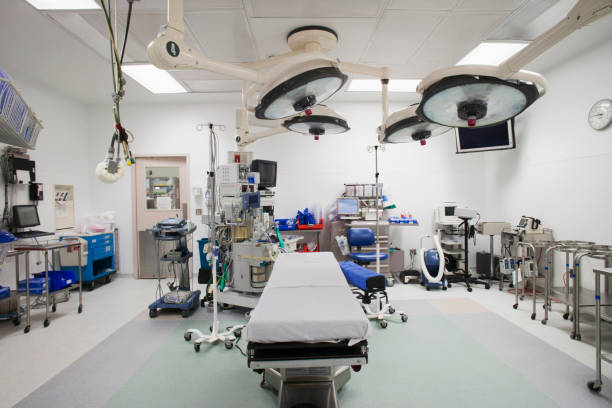TV: (451, 120, 524, 158)
bedside_monitor: (250, 157, 282, 189), (337, 197, 361, 219)
chair: (347, 227, 387, 265)
computer: (14, 205, 41, 226)
iv_pole: (196, 123, 226, 330), (365, 143, 388, 266)
medical_drawer: (87, 232, 116, 290)
operating_bed: (241, 253, 368, 408)
surgical_light: (418, 67, 538, 133), (251, 50, 342, 120), (382, 115, 450, 150), (285, 106, 352, 141)
utility_cart: (14, 238, 84, 334), (542, 235, 585, 336), (508, 228, 551, 329), (569, 233, 612, 334), (592, 267, 612, 405)
